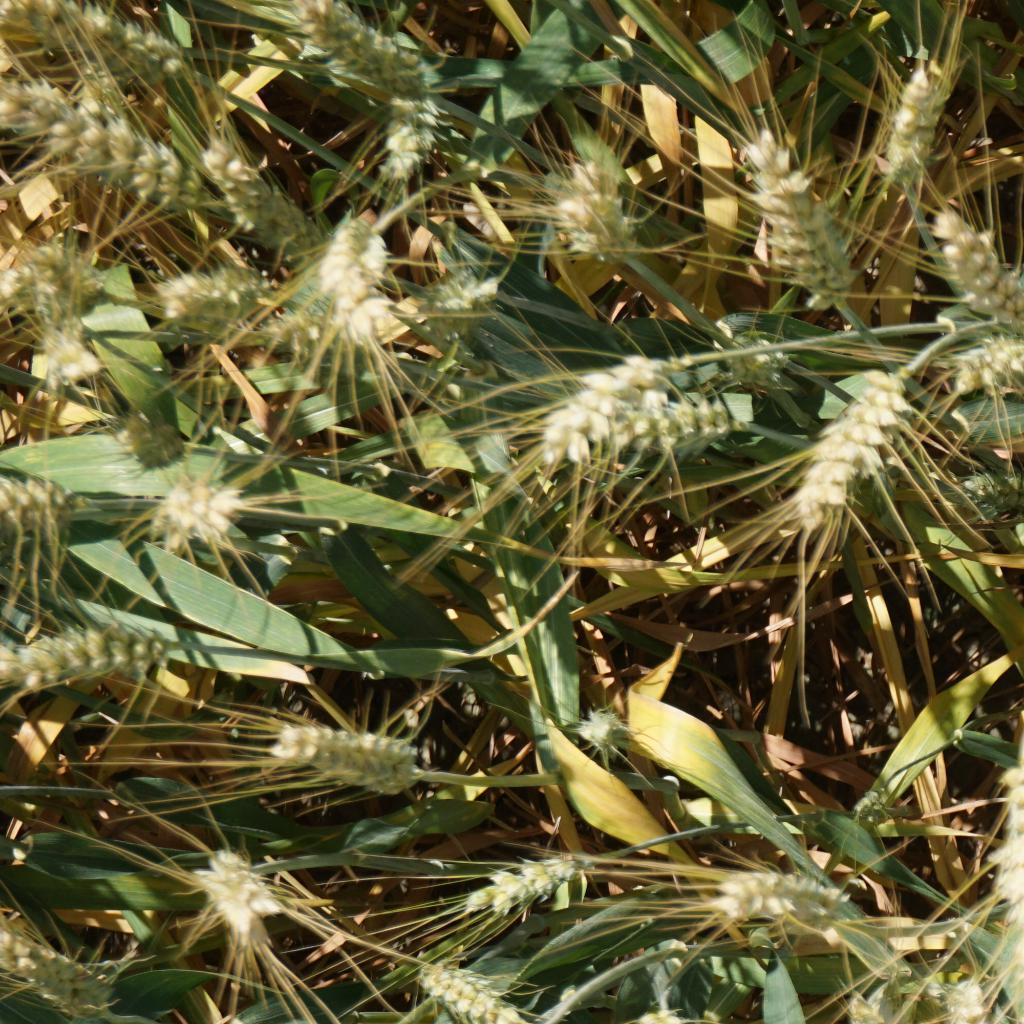0-0: (0, 86, 180, 211), (524, 343, 701, 470), (792, 366, 914, 535), (0, 605, 194, 710), (745, 150, 858, 314), (281, 0, 450, 107), (0, 0, 190, 92), (190, 133, 299, 251), (266, 707, 417, 787), (879, 54, 964, 190), (0, 930, 129, 1019), (925, 209, 1024, 324), (545, 166, 645, 275), (988, 757, 1024, 1007), (705, 858, 844, 922), (606, 393, 745, 455), (147, 473, 247, 559), (412, 957, 530, 1024), (312, 214, 396, 306), (193, 841, 279, 927), (370, 95, 443, 192), (468, 850, 574, 906), (152, 263, 257, 318), (413, 259, 494, 325), (950, 453, 1024, 522), (0, 467, 88, 525), (19, 251, 93, 312), (943, 336, 1024, 387), (122, 409, 194, 461), (38, 322, 99, 379), (574, 706, 630, 751), (840, 786, 891, 822), (743, 335, 787, 375)
